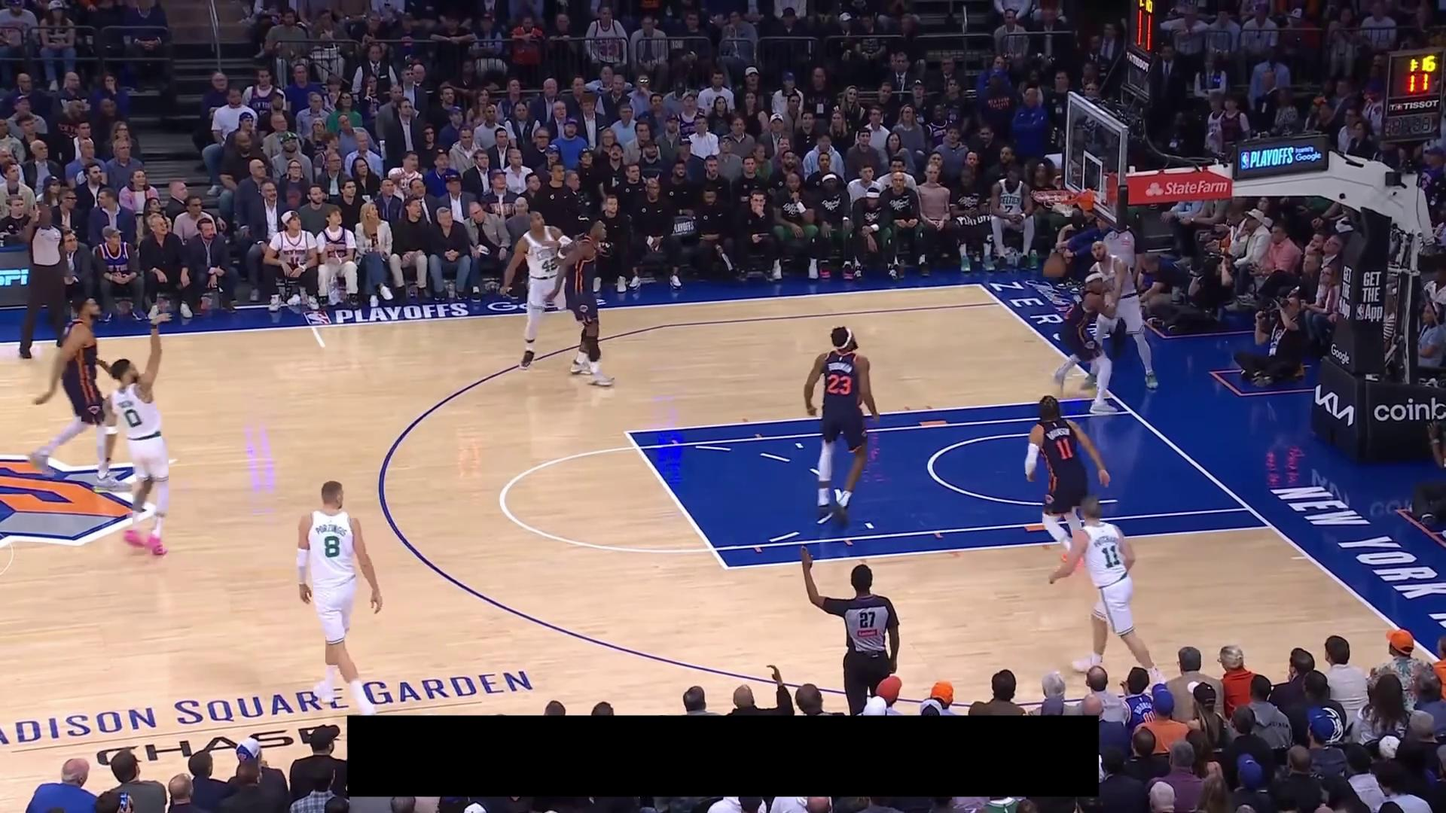ball: (1042, 254, 1066, 279)
number: (827, 373, 852, 395), (1100, 544, 1121, 568), (1054, 437, 1073, 461), (323, 535, 341, 559), (124, 408, 142, 428), (541, 257, 554, 273)
player: (1048, 494, 1173, 696), (294, 480, 385, 714), (27, 294, 128, 492), (99, 311, 172, 557), (497, 209, 595, 372), (804, 324, 881, 530), (1023, 393, 1112, 571), (1079, 236, 1163, 396), (546, 217, 616, 387), (1050, 269, 1127, 417)
referee: (800, 544, 899, 714), (16, 199, 72, 361), (1099, 222, 1145, 355)
rim: (1031, 189, 1079, 205)
